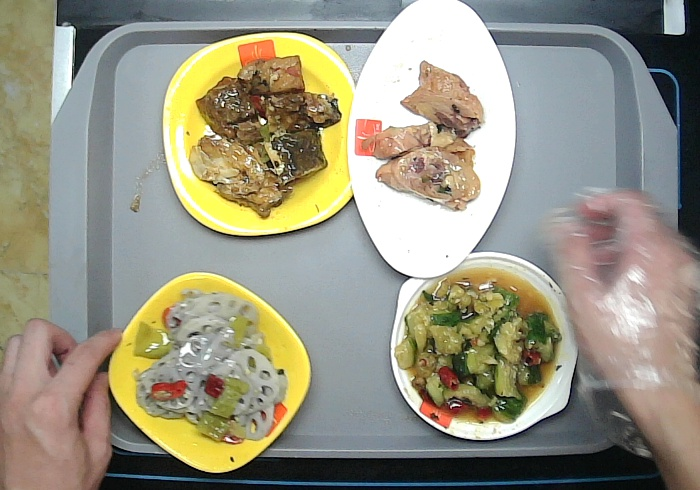SHKJ-Bao_Yu_Pan: (390, 250, 582, 441)
SHKJ-Huang_Se_Cai_Die: (106, 272, 315, 471)
SHKJ-Huang_Se_Si_Fang_Cai_Die: (163, 31, 364, 236)
SHKJ-Yu_Pan: (347, 1, 519, 278)
